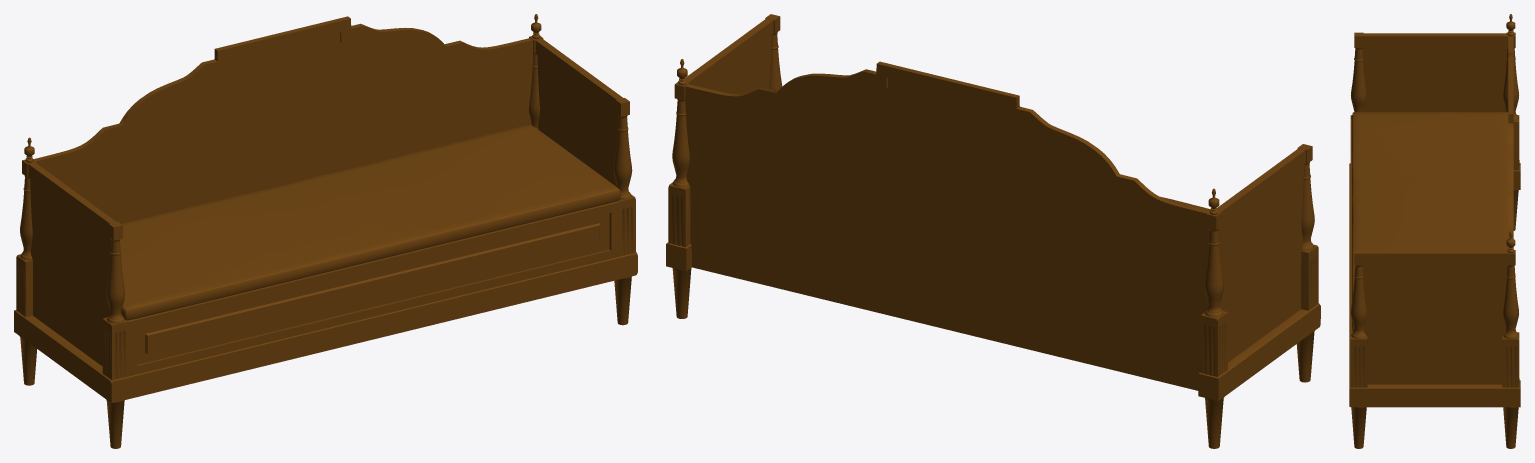
Rendered from sofa_painted.glb.
3 renders of one model, left to right at view 1: azimuth 30°, elevation 25°; view 2: azimuth 150°, elevation 25°; view 3: azimuth 270°, elevation 25°, orthographic. The views are drawn at different scales.
Parts seen in each view (by area): view 1: painted_wooden_sofa; view 2: painted_wooden_sofa; view 3: painted_wooden_sofa.
Boxes of the visible parts, box(x1,y1,x2,y2) form: painted_wooden_sofa: box(14, 14, 637, 448); painted_wooden_sofa: box(666, 14, 1320, 448); painted_wooden_sofa: box(1349, 14, 1520, 448).
Size of the model in its own units: 2.45 by 1.28 by 0.7873.
